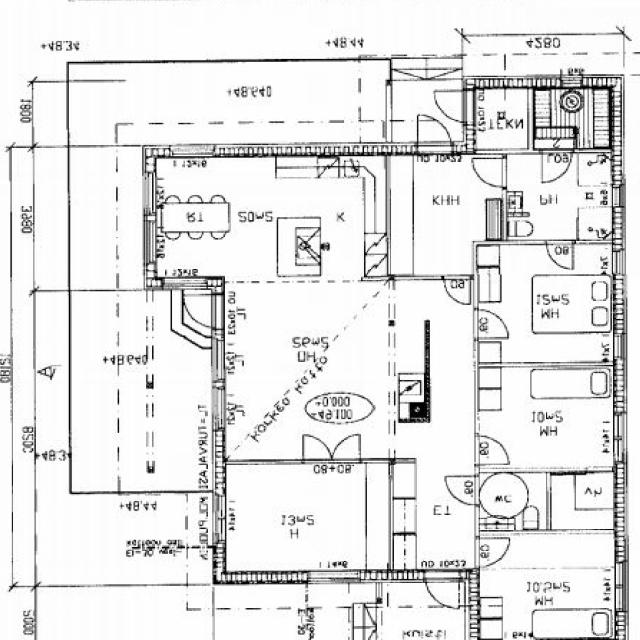door: (176, 294, 225, 328), (418, 108, 453, 155), (425, 570, 459, 614), (432, 91, 475, 122), (473, 537, 511, 568), (473, 434, 511, 464), (542, 148, 573, 184), (304, 432, 333, 466), (473, 310, 508, 338), (444, 476, 479, 504), (473, 159, 508, 187), (332, 432, 360, 466), (444, 274, 469, 305), (548, 239, 573, 269)
